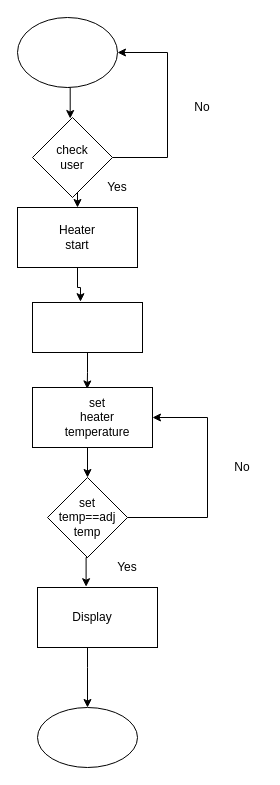
Some shapes in this 280 by 785 pixel diagram are drawn without their labels. Each missing label, with the centre of its shape:
"adjust the temperature by user" goes at (x=87, y=327).
"Start" goes at (x=67, y=52).
"stop" goes at (x=87, y=737).
